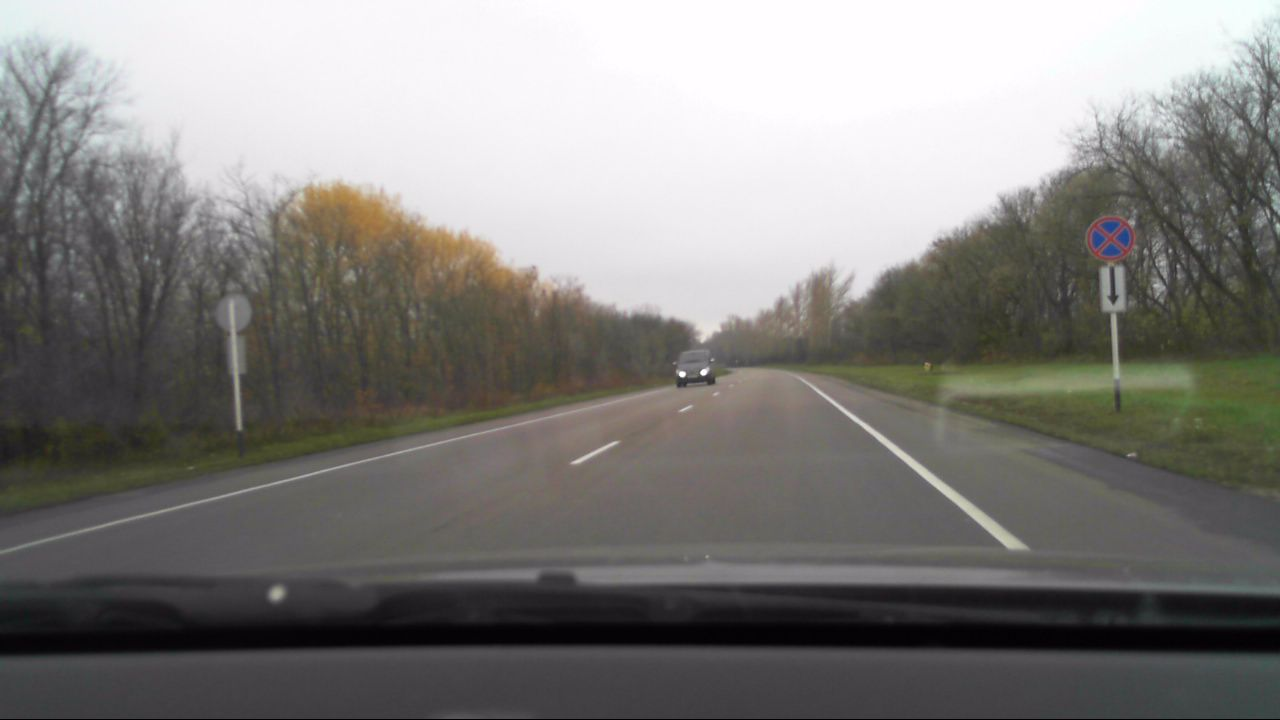No Parking: (1085, 214, 1135, 263)
